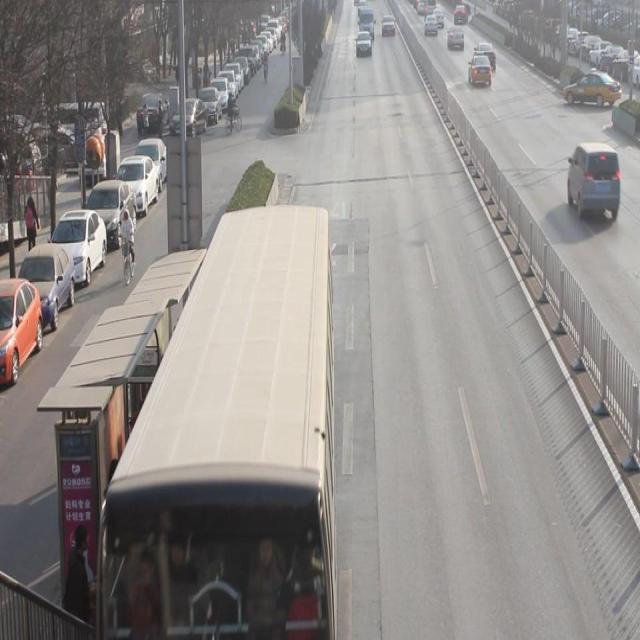bus: (358, 9, 376, 41)
car: (568, 144, 621, 225), (562, 66, 622, 111), (467, 49, 492, 90), (476, 42, 497, 75), (447, 24, 465, 53), (355, 31, 372, 60), (453, 1, 468, 26), (382, 14, 396, 38), (424, 14, 438, 37), (433, 8, 444, 30)
van: (101, 202, 333, 626)
